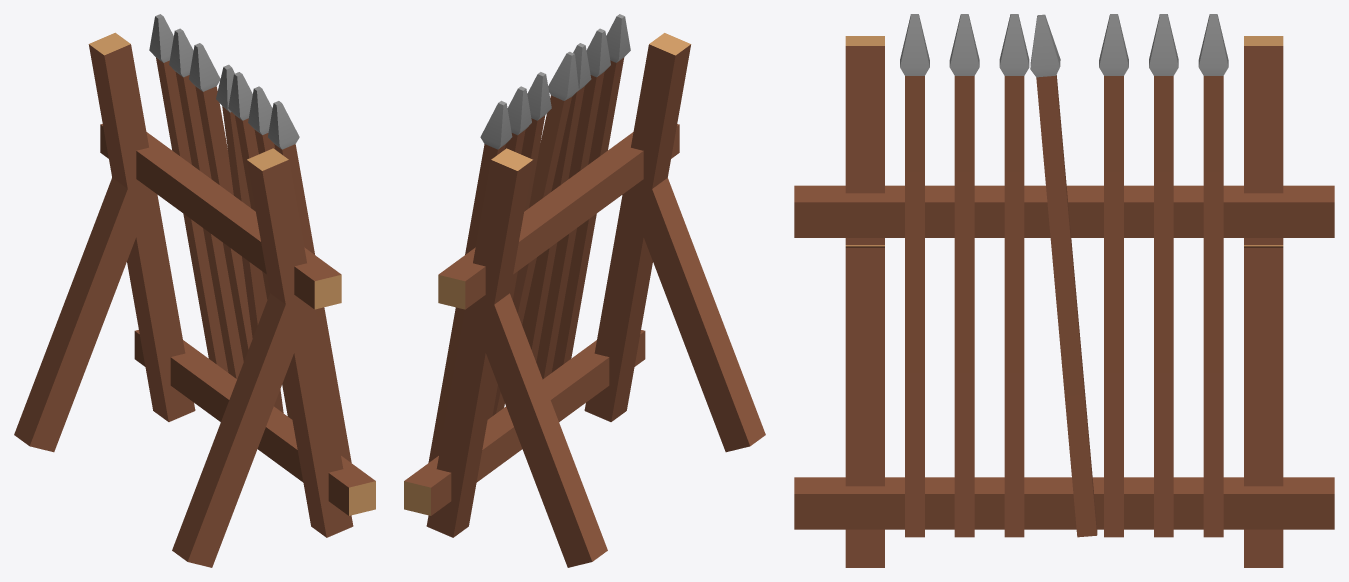
Rendered from Spears.fbx.
The picture shows the model from 3 angles, left to right: view 1: azimuth 30°, elevation 25°; view 2: azimuth 150°, elevation 25°; view 3: azimuth 270°, elevation 25°; orthographic projection. The views are drawn at different scales.
Parts seen in each view (by area): view 1: Spears; view 2: Spears; view 3: Spears.
Boxes of the visible parts, box(x1,y1,x2,y2) form: Spears: box(14, 14, 375, 567); Spears: box(404, 14, 765, 567); Spears: box(794, 14, 1334, 567).
Bounding box in the file's own units: 0.2757 × 0.5904 × 0.5427.
